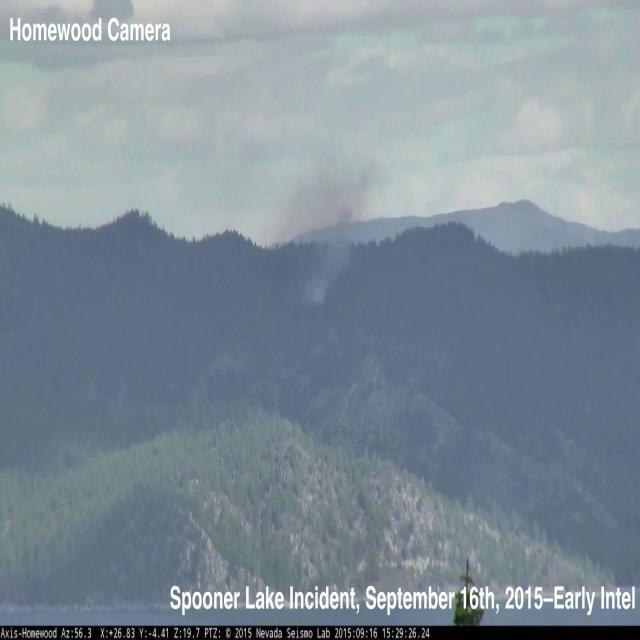smoke: (288, 134, 380, 322)
